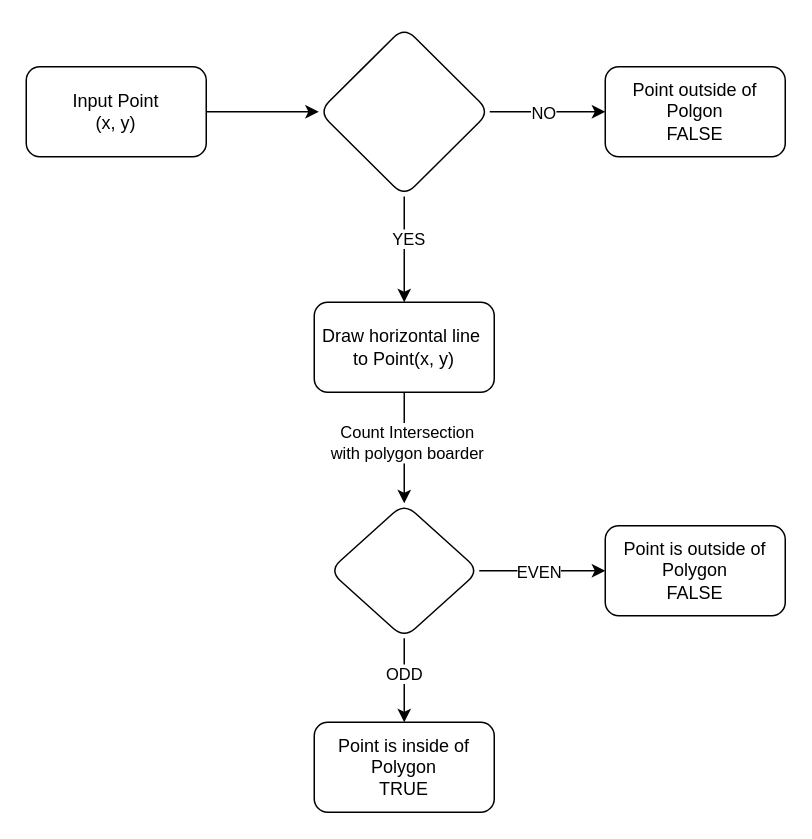
This 812x839 diagram has some shape labels left out. The centre of each missing label's shape, as x and y in pixels:
# Intersections: point (403, 570)
y between polygon min. y AND max. y: point (403, 111)
